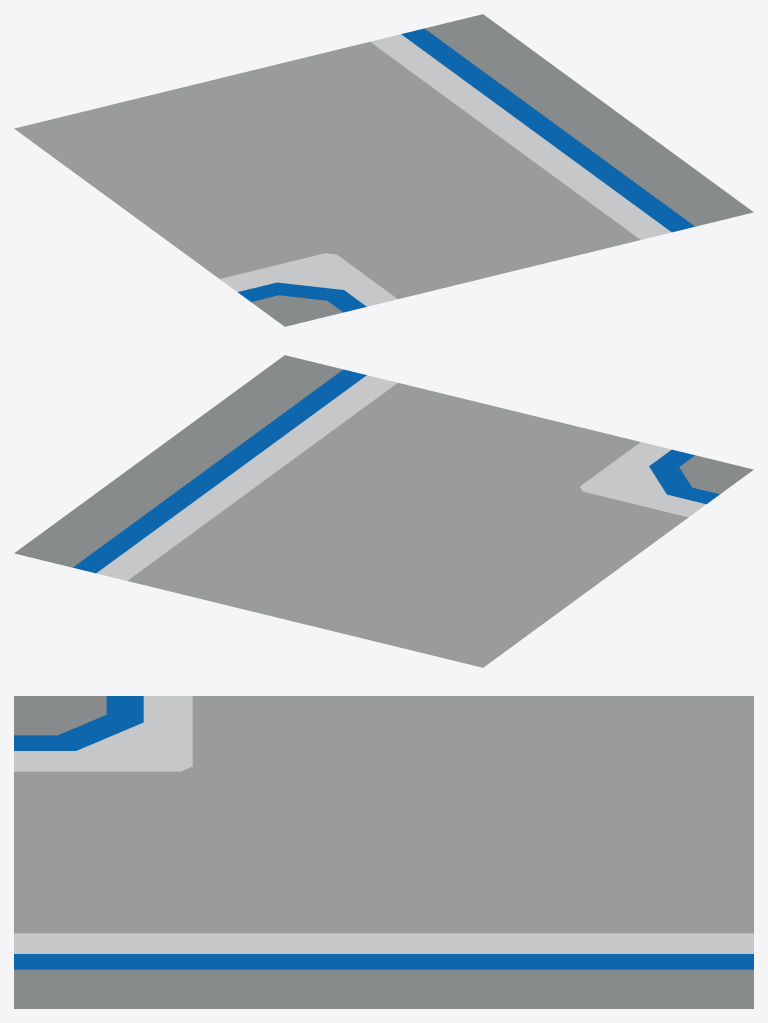
The model's file is Ceiling_type_A_052.002.fbx.
3 views of the same model, one above another, from view 1: azimuth 30°, elevation 25°; view 2: azimuth 150°, elevation 25°; view 3: azimuth 270°, elevation 25° (orthographic). The views are drawn at different scales.
Parts seen in each view (by area): view 1: Ceiling_type_A_052.002; view 2: Ceiling_type_A_052.002; view 3: Ceiling_type_A_052.002.
Part boxes in pixels (box(x1,y1,x2,y2)): Ceiling_type_A_052.002: box(14, 14, 753, 326); Ceiling_type_A_052.002: box(14, 355, 753, 667); Ceiling_type_A_052.002: box(14, 696, 753, 1008).
Size of the model in its own units: 400 by 400 by 3.5.
